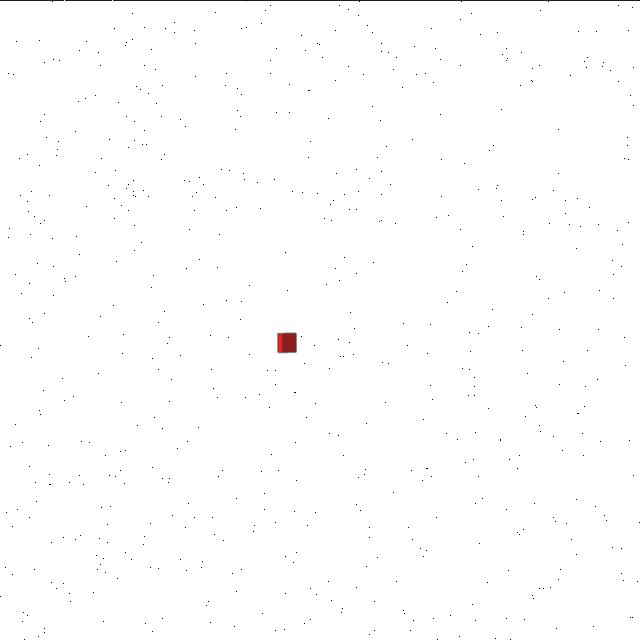3070b: (273, 328, 301, 356)
